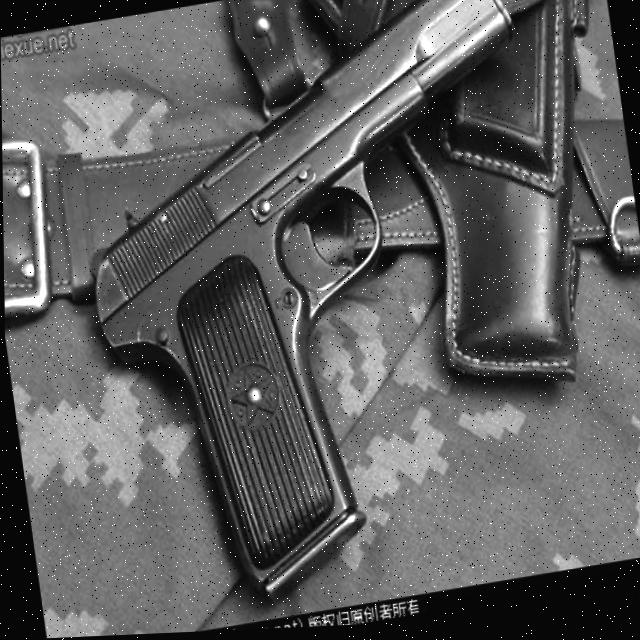pistol: (51, 0, 587, 632)
